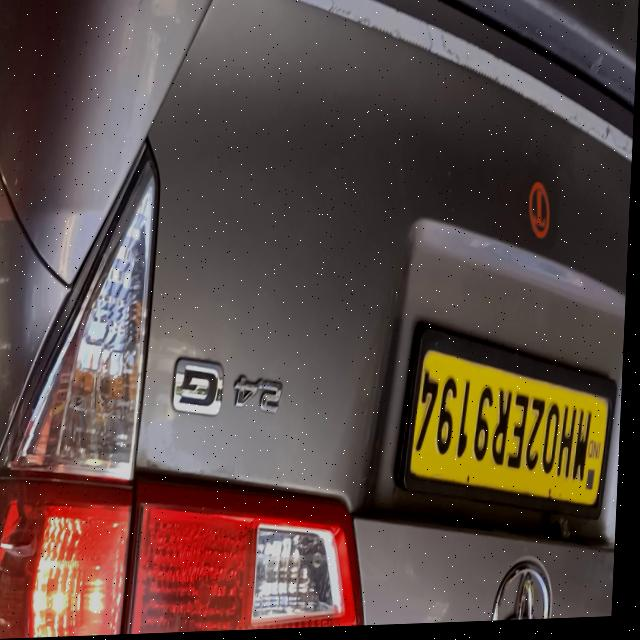plate: (397, 316, 625, 535)
